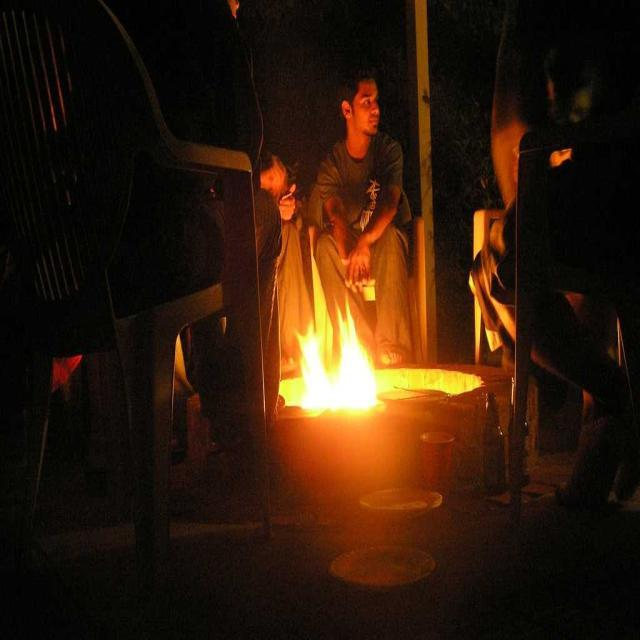Fire: (292, 311, 388, 424)
